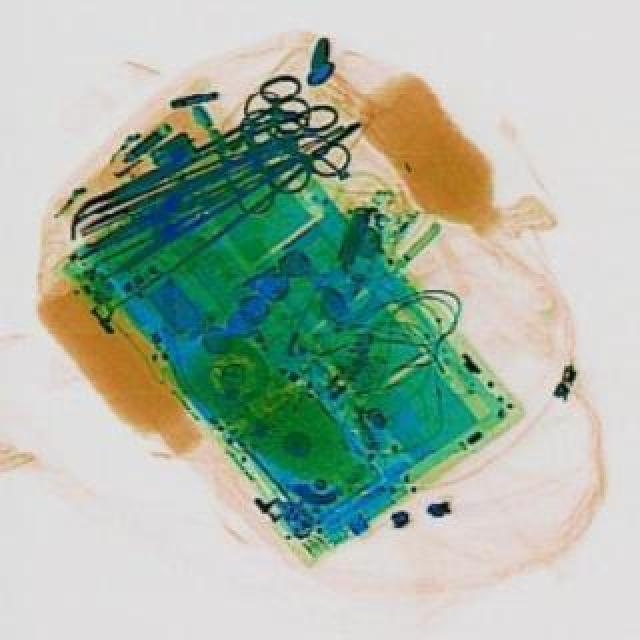pliers: (156, 64, 340, 202)
